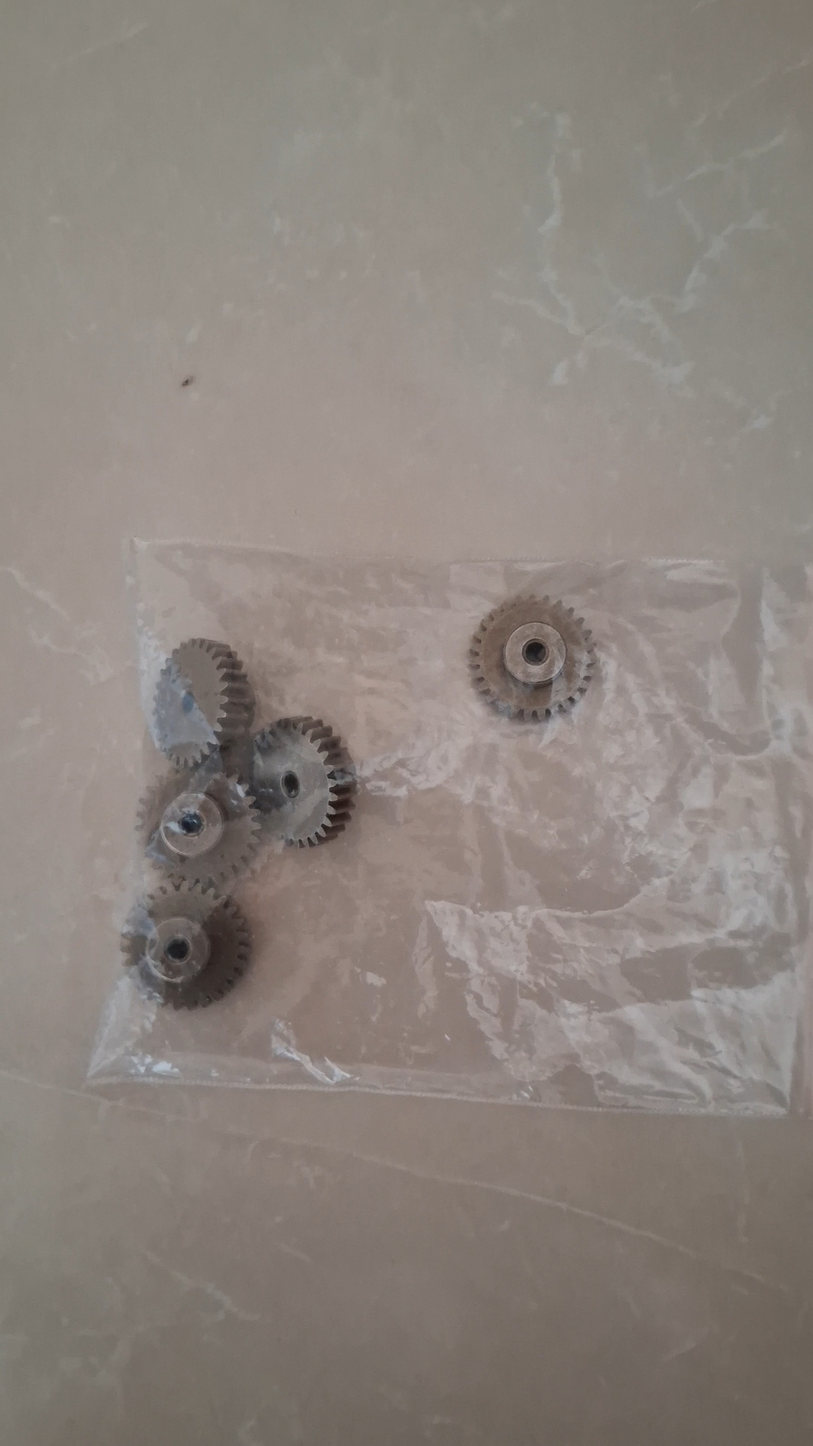spur gear: (122, 881, 250, 1008), (470, 596, 595, 719), (137, 765, 260, 887), (249, 717, 354, 847), (154, 638, 254, 767)
